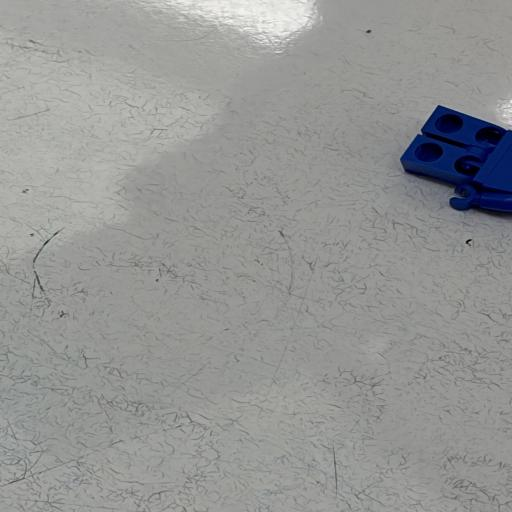Blue-Lego: (400, 105, 512, 211)
